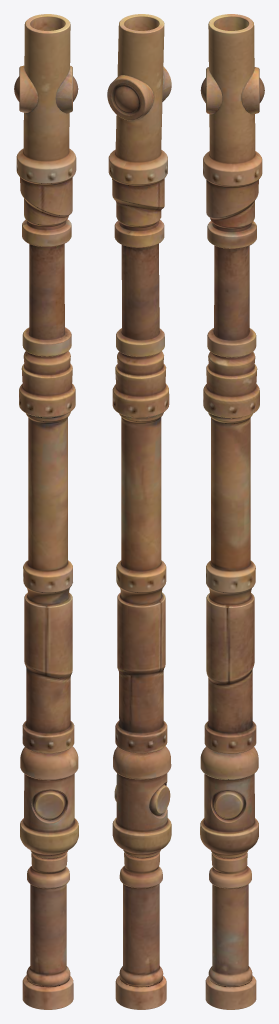
File: Pipe2.fbx
The picture shows the model from 3 angles, left to right: view 1: azimuth 90°, elevation 25°; view 2: azimuth 150°, elevation 25°; view 3: azimuth 270°, elevation 25°; orthographic projection.
Visible parts, largest first — view 1: Cube.017; view 2: Cube.017; view 3: Cube.017.
Boxes of the visible parts, x1,y1,x2,y2 form: Cube.017: (14,14,78,1009); Cube.017: (107,14,171,1009); Cube.017: (200,14,264,1009).
Bounding box in the file's own units: 100 × 1743 × 105.
